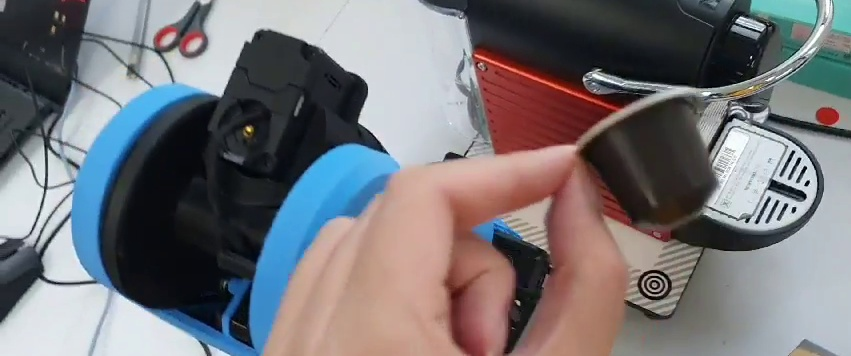capsule_4: (569, 82, 725, 236)
